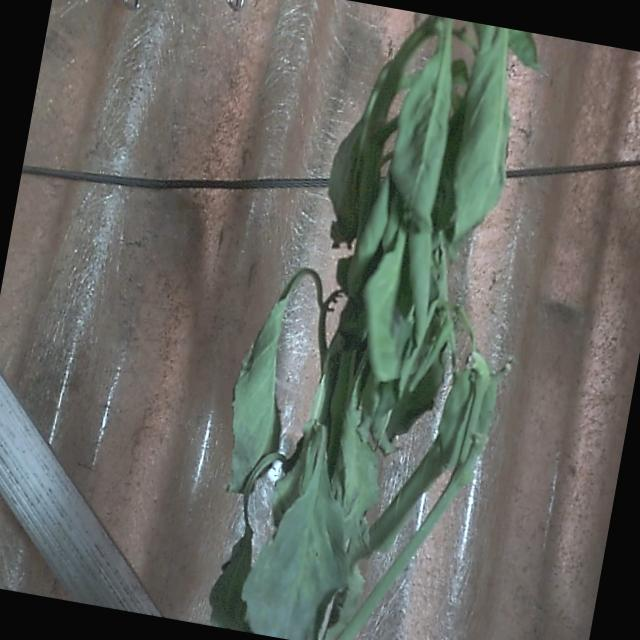Leaf: (237, 477, 351, 640), (443, 36, 529, 244), (215, 290, 302, 495), (378, 42, 462, 235)
